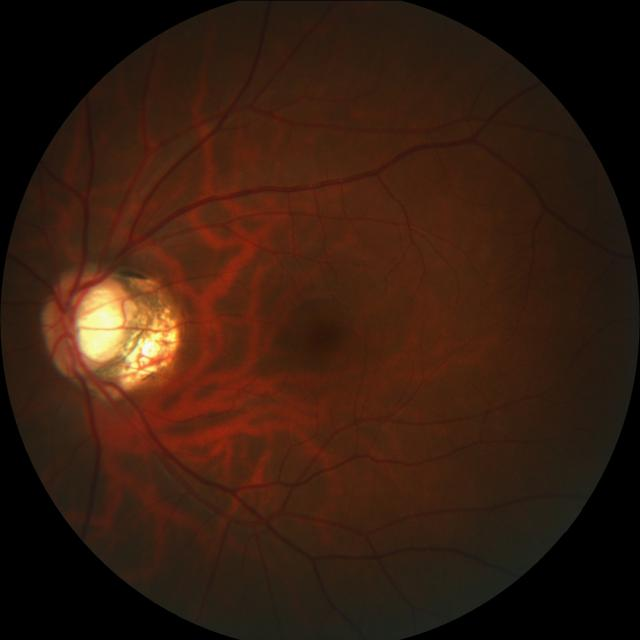OC: (67, 283, 126, 359)
OD: (42, 267, 130, 375)
